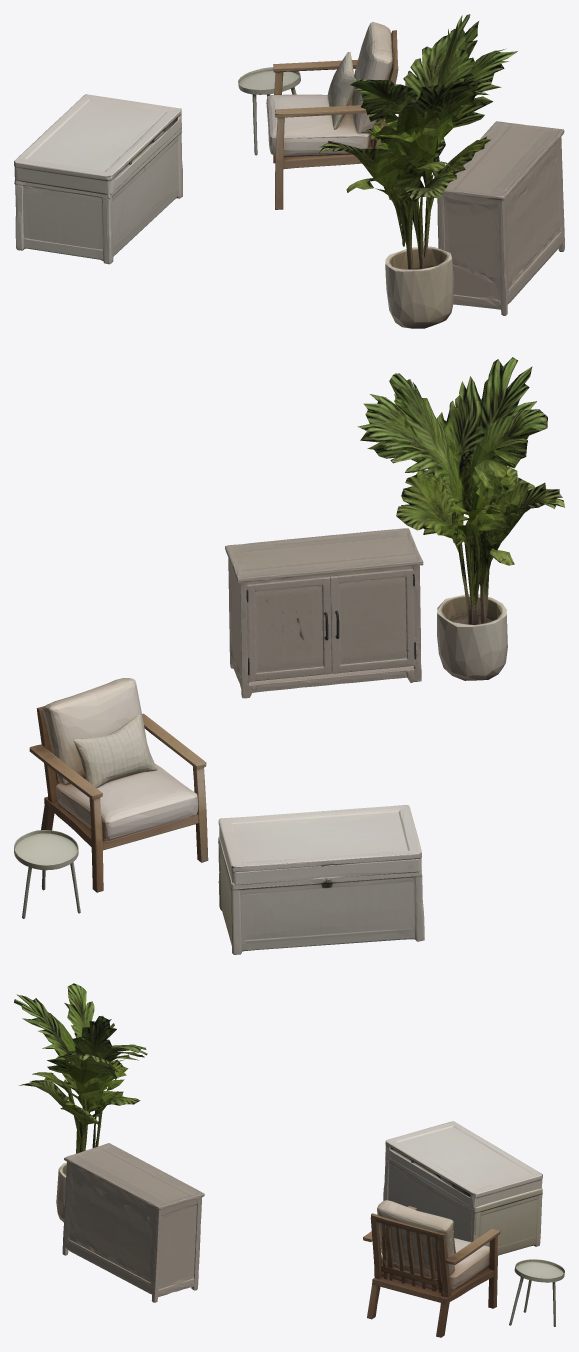
File: figure6-6.glb
3 views of the same model, one above another, from view 1: azimuth 30°, elevation 25°; view 2: azimuth 150°, elevation 25°; view 3: azimuth 270°, elevation 25° (orthographic). The views are drawn at different scales.
Visible parts, largest first — view 1: obj_4_part_0, obj_0_part_0, obj_1_part_0, obj_2_part_0, obj_1_part_1, obj_3_part_0; view 2: obj_4_part_0, obj_2_part_0, obj_1_part_0, obj_1_part_1, obj_0_part_0, obj_0_part_2, obj_0_part_1, obj_3_part_0; view 3: obj_0_part_0, obj_2_part_0, obj_4_part_0, obj_1_part_1, obj_1_part_0, obj_3_part_0.
Part boxes in pixels (left/top/right/bottom): obj_4_part_0: left=319, top=14, right=517, bottom=328; obj_0_part_0: left=437, top=121, right=564, bottom=315; obj_1_part_0: left=14, top=128, right=182, bottom=264; obj_2_part_0: left=266, top=22, right=398, bottom=209; obj_1_part_1: left=14, top=94, right=181, bottom=194; obj_3_part_0: left=238, top=67, right=300, bottom=155; obj_4_part_0: left=358, top=357, right=564, bottom=680; obj_2_part_0: left=29, top=678, right=208, bottom=892; obj_1_part_0: left=218, top=837, right=424, bottom=954; obj_1_part_1: left=218, top=805, right=421, bottom=885; obj_0_part_0: left=225, top=528, right=423, bottom=698; obj_0_part_2: left=330, top=567, right=419, bottom=673; obj_0_part_1: left=243, top=576, right=331, bottom=681; obj_3_part_0: left=14, top=830, right=80, bottom=918; obj_0_part_0: left=62, top=1143, right=204, bottom=1302; obj_2_part_0: left=363, top=1200, right=500, bottom=1337; obj_4_part_0: left=14, top=983, right=147, bottom=1222; obj_1_part_1: left=385, top=1121, right=542, bottom=1208; obj_1_part_0: left=383, top=1156, right=542, bottom=1255; obj_3_part_0: left=509, top=1259, right=564, bottom=1326.
Bounding box in the file's own units: 1.13 × 0.9745 × 1.75.
Materials: 8 (8 with a texture image).
